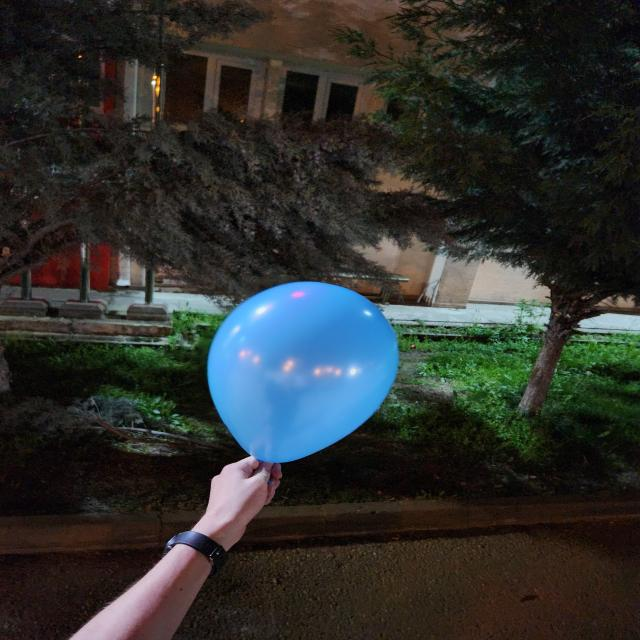blue: (209, 282, 399, 464)
